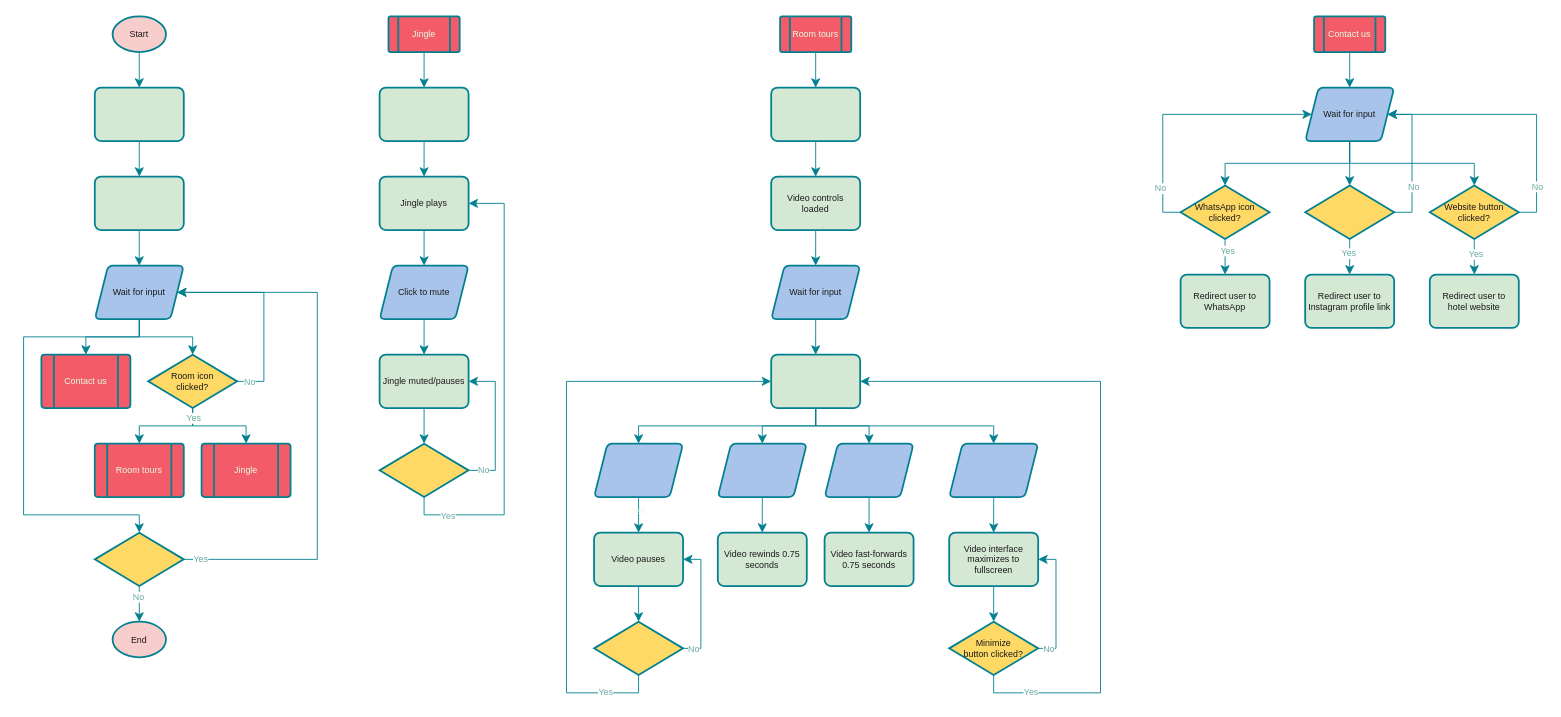
Image size: 1561x717. Some labels were removed from this diagram. The centre of each missing label's shape, as x and y in pixels:
Any input?: point 138,559
Click fast-forward button: point 868,470
Click fullscreen button: point 993,470
Click pause button: point 638,470
Click rewind button: point 761,470
Display switched from front page to video: point 815,114
Floating button appears: point 423,114
Front page: point 138,203
Instagram icon clicked?: point 1349,211
Play button clicked?: point 638,648
Unmute button clicked?: point 423,470
Video plays: point 815,381
Website loads: point 138,114
